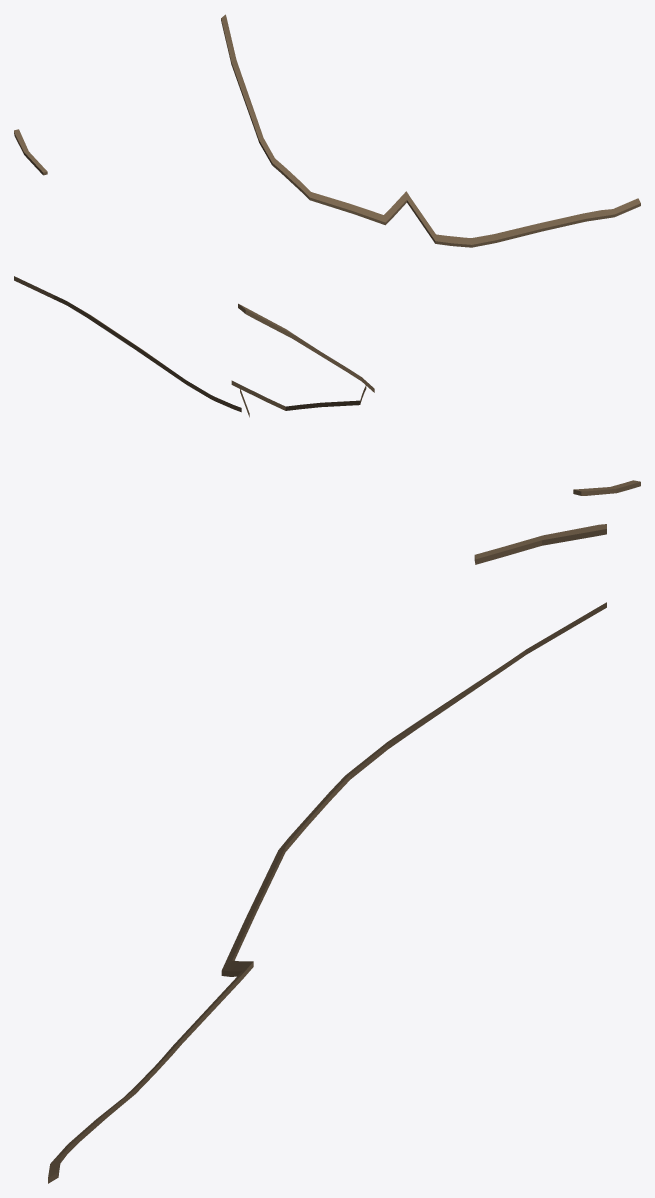
The picture shows the model from 3 angles, top to bottom: view 1: azimuth 30°, elevation 25°; view 2: azimuth 150°, elevation 25°; view 3: azimuth 270°, elevation 25°; orthographic projection. The views are drawn at different scales.
Bounding box in the file's own units: 130 × 45.32 × 63.99.
